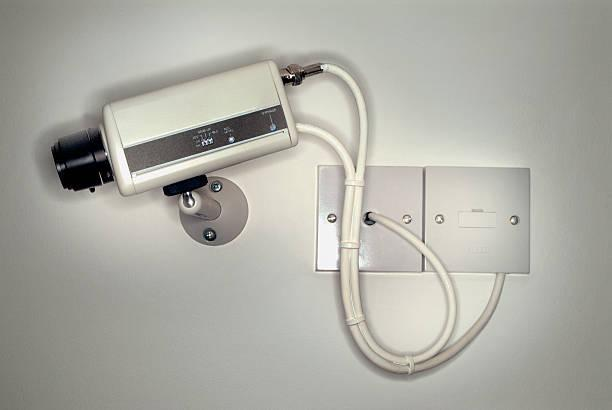camera: (16, 56, 354, 233)
